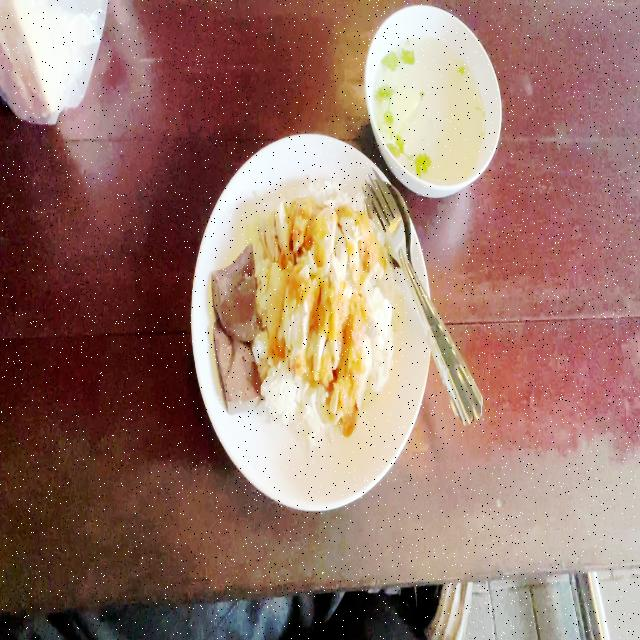boiled_chicken: (263, 204, 377, 418)
boiled_chicken_blood_jelly: (210, 238, 260, 346), (213, 318, 262, 413)
chicken_rice: (216, 178, 397, 443)
